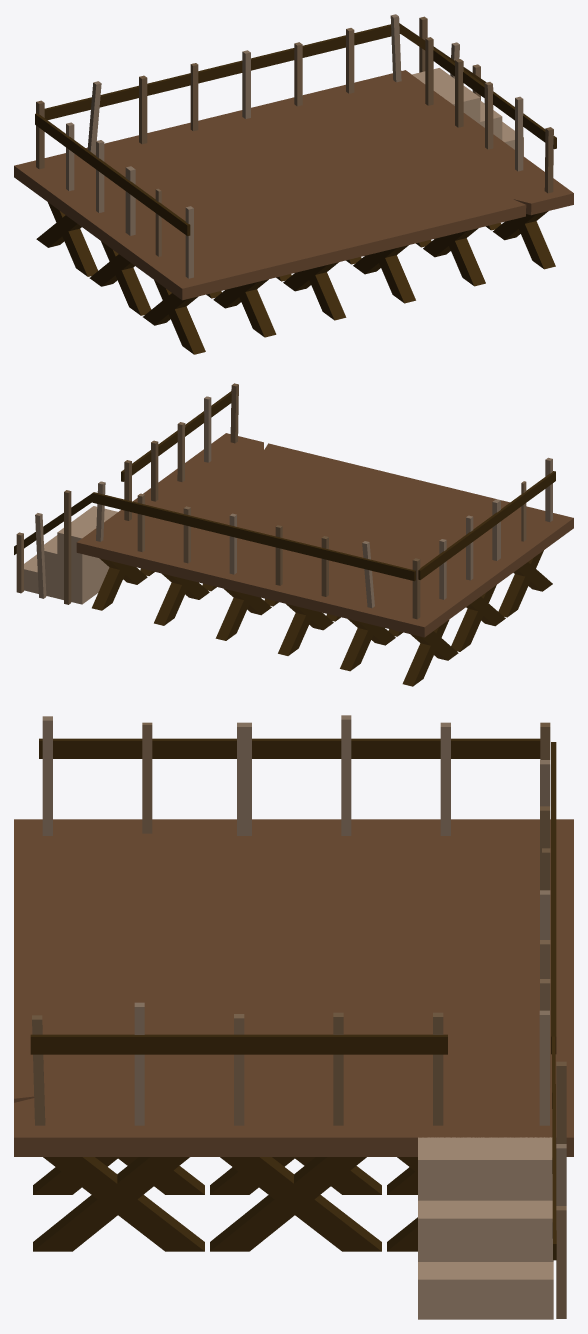
Rendered from Estrade.fbx.
The picture shows the model from 3 angles, top to bottom: view 1: azimuth 30°, elevation 25°; view 2: azimuth 150°, elevation 25°; view 3: azimuth 270°, elevation 25°; orthographic projection. The views are drawn at different scales.
Visible parts, largest first — view 1: polySurface72; view 2: polySurface72; view 3: polySurface72.
Part boxes in pixels (bbox=[...]): polySurface72: bbox=[14, 14, 573, 354]; polySurface72: bbox=[14, 383, 573, 686]; polySurface72: bbox=[14, 715, 573, 1319].
Bounding box in the file's own units: 4.89 × 1.46 × 3.05.
